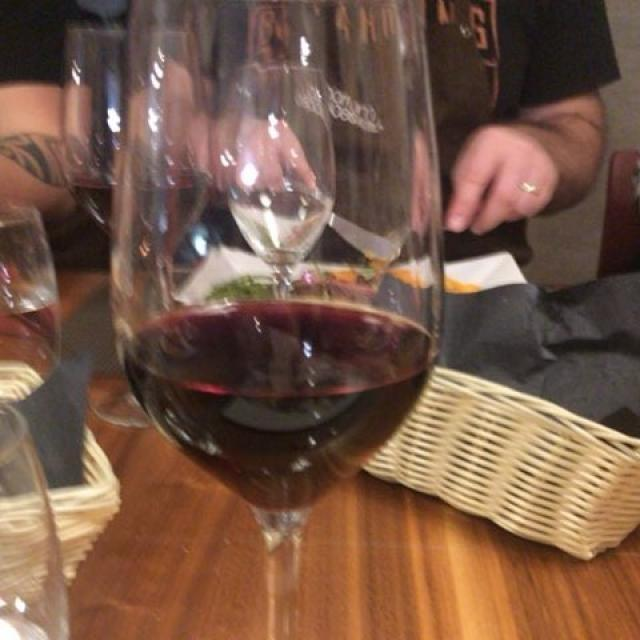wine: (129, 283, 426, 507)
